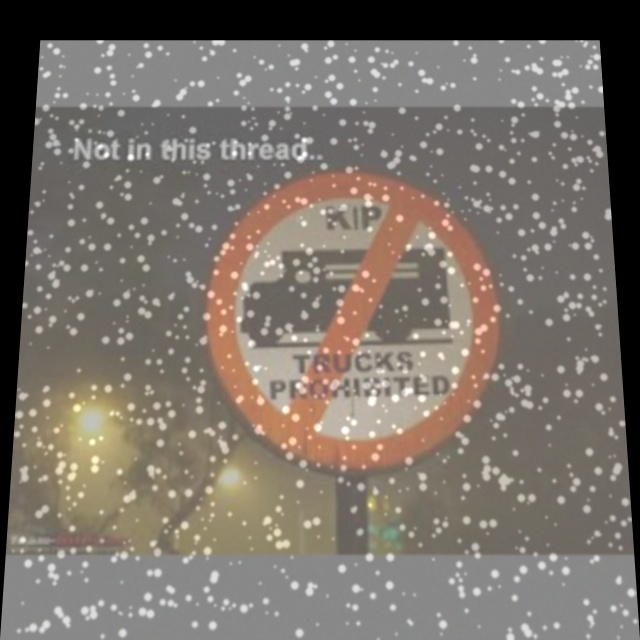Truck_Prohibited: (198, 171, 518, 476)
